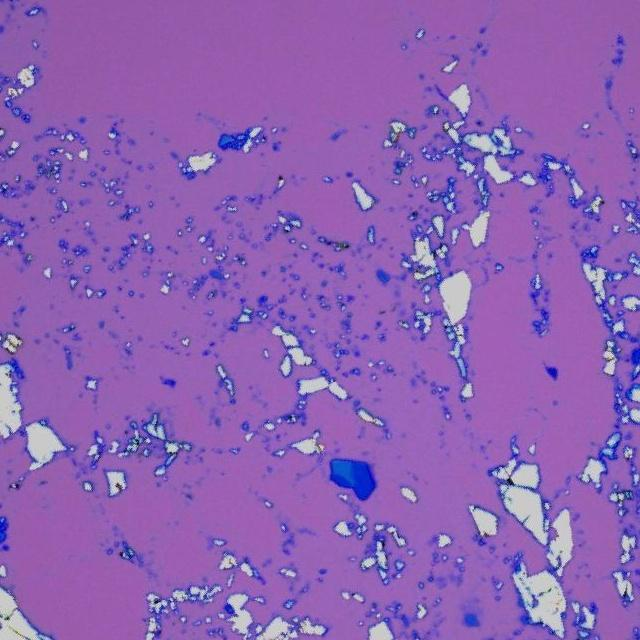monolayer-eWW4: (370, 463, 378, 479)
